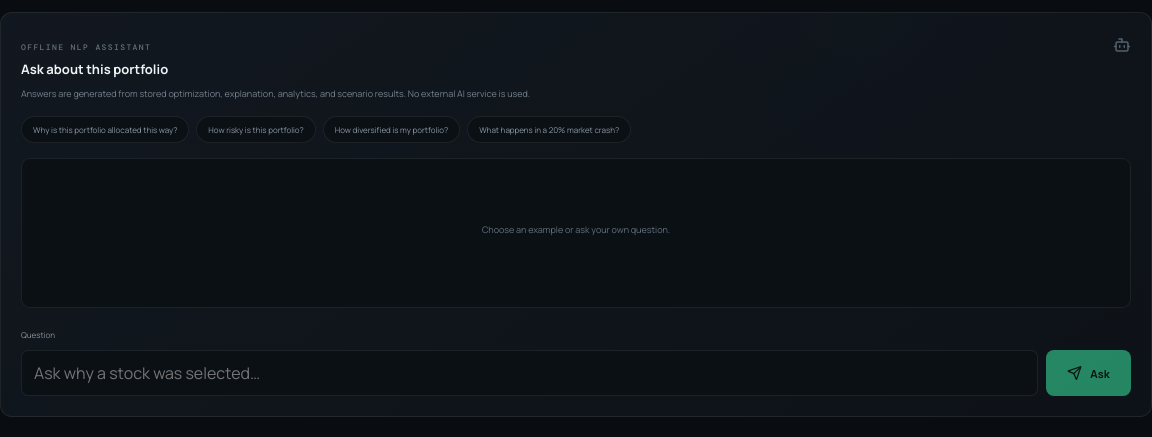
Test: AssistantPanel › submits a question through the typed client and renders grounded evidence
The image size is (1152, 437).
Click the button "How diversified is my portfolio?": coordinates (391, 130) [323, 116, 460, 143]
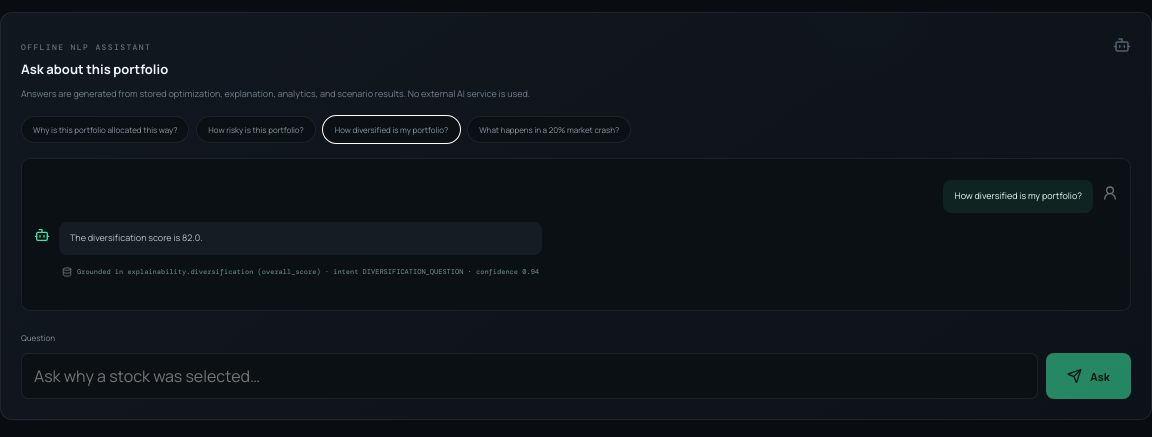
Result: the text "The diversification score is 82.0." is shown at [59, 222, 542, 255]
Result: the text "explainability.diversification (overall_score)" is shown at [127, 267, 321, 276]
